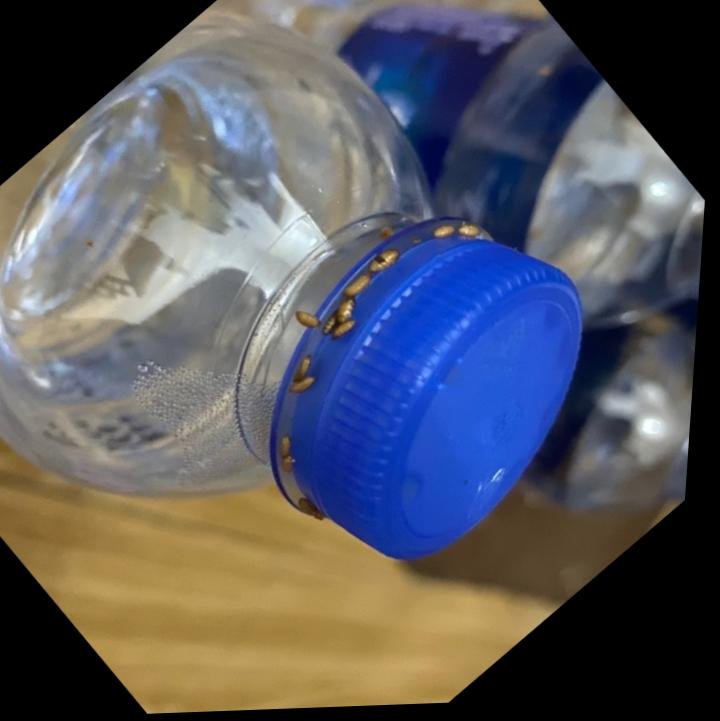plastic: (0, 85, 716, 718), (0, 0, 430, 493)
